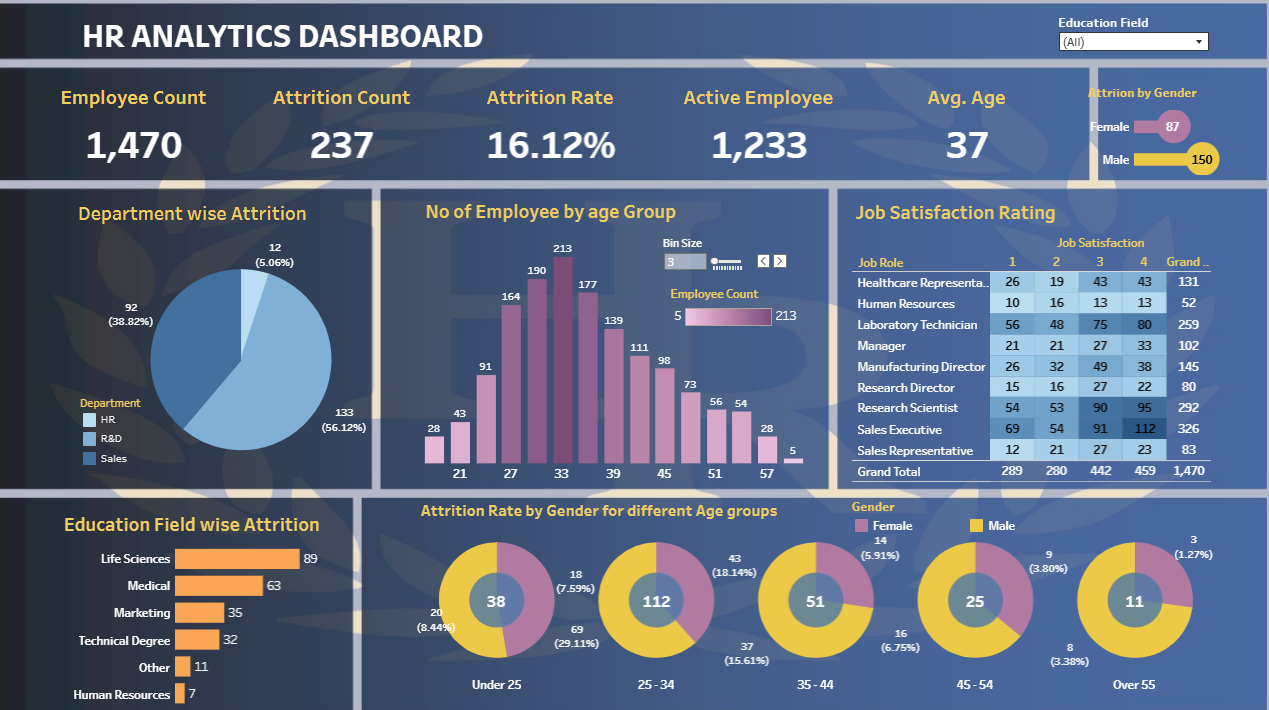

The dashboard page shown, as its layout file describes it:
{"tool":"tableau","page":{"name":"HR DASHBOARD","canvas":[1000,1000],"units":"permille","ordinal":0},"visuals":[{"type":"image","param":"C:/Users/HP/Downloads/HR background.png","box":[7.1,12.3,985.7,975.4]},{"type":"filter","title":"Education Field wise Attrition","param":"[federated.1l4z6cn0sy8ddm1fb730i1siha01].[none:Education Field:nk]","box":[867.9,29.2,111.6,75.4]},{"type":"text","box":[27.5,33.9,470.3,56.9]},{"type":"worksheet","title":"KPI","mark":"Automatic","box":[33.9,113.9,800.7,144.6]},{"type":"worksheet","title":"Attriion by Gender","mark":"Automatic","rows":["Gender"],"cols":["Calculation_220957871868973056","Calculation_220957871868973056"],"box":[859.5,129.2,122.8,132.3]},{"type":"worksheet","title":"No of Employee by age Group","mark":"Automatic","rows":["Employee Count"],"cols":["Age (bin)"],"box":[310.9,276.9,338.4,393.9]},{"type":"worksheet","title":"Department wise Attrition","mark":"Pie","box":[16.7,278.5,281.6,392.3]},{"type":"worksheet","title":"Job Satisfaction Rating","mark":"Square","rows":["Job Role"],"cols":["Job Satisfaction"],"box":[660.5,278.5,324.5,390.8]},{"type":"parameter","param":"[Parameters].[Parameter 1]","box":[548.7,286.2,93.1,63.1]},{"type":"legend","title":"No of Employee by age Group","param":"[federated.1l4z6cn0sy8ddm1fb730i1siha01].[sum:Employee Count:qk]","box":[547.9,369.2,95.7,83.1]},{"type":"legend","title":"Department wise Attrition","param":"[federated.1l4z6cn0sy8ddm1fb730i1siha01].[none:Department:nk]","box":[16.7,543.1,100,132.3]},{"type":"worksheet","title":"Attrition Rate by Gender for different Age groups","mark":"Pie","rows":["Calculation_948852178047361027","Calculation_948852178047361027"],"cols":["CF_age band"],"box":[294.3,683.1,689.7,280]},{"type":"legend","title":"Attrition Rate by Gender for different Age groups","param":"[federated.1l4z6cn0sy8ddm1fb730i1siha01].[none:Gender:nk]","box":[660.5,687.7,305,53.9]},{"type":"worksheet","title":"Education Field wise Attrition","mark":"Automatic","rows":["Education Field"],"cols":["Calculation_220957871868973056"],"box":[18.4,698.5,263.4,272.3]}]}

Visuals, with their boxes on the dashboard's canvas, which has no fixed pixel size, in thousandths of its width and height (x1, y1, x2, y2). These are canvas units, not pixel positions in the 1269x710 screenshot, which may show the page scaled, cropped or inside an application window:
image: <region>7, 12, 993, 988</region>
"Education Field wise Attrition" filter: <region>868, 29, 980, 105</region>
text: <region>28, 34, 498, 91</region>
"KPI" worksheet: <region>34, 114, 835, 258</region>
"Attriion by Gender" worksheet: <region>860, 129, 982, 262</region>
"No of Employee by age Group" worksheet: <region>311, 277, 649, 671</region>
"Department wise Attrition" worksheet (Pie marks): <region>17, 278, 298, 671</region>
"Job Satisfaction Rating" worksheet (Square marks): <region>660, 278, 985, 669</region>
parameter: <region>549, 286, 642, 349</region>
"No of Employee by age Group" legend: <region>548, 369, 644, 452</region>
"Department wise Attrition" legend: <region>17, 543, 117, 675</region>
"Attrition Rate by Gender for different Age groups" worksheet (Pie marks): <region>294, 683, 984, 963</region>
"Attrition Rate by Gender for different Age groups" legend: <region>660, 688, 966, 742</region>
"Education Field wise Attrition" worksheet: <region>18, 698, 282, 971</region>
